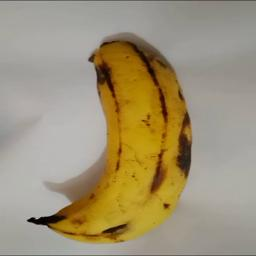Banana Semifresh: (23, 36, 197, 246)
